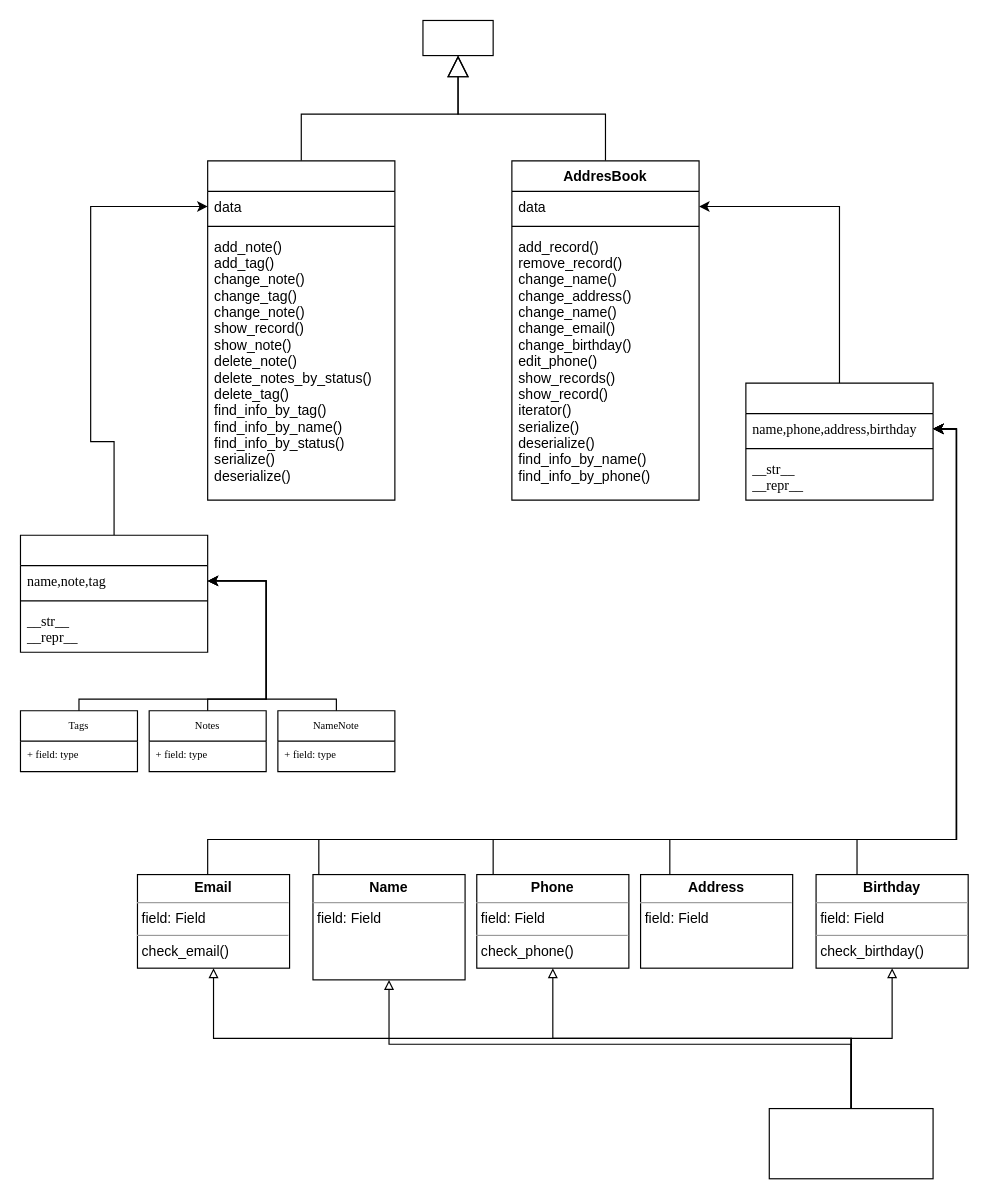
The diagram is 989 pixels wide and 1199 high, and some of its shapes have lost their labels. Here are the shapes that lost their labels. From the top down, the box of each, then its label:
(422, 19, 493, 56): UserDict
(207, 160, 395, 500): NoteBook
(745, 382, 933, 500): Record
(19, 534, 208, 652): RecordNote
(768, 1107, 933, 1179): Field
